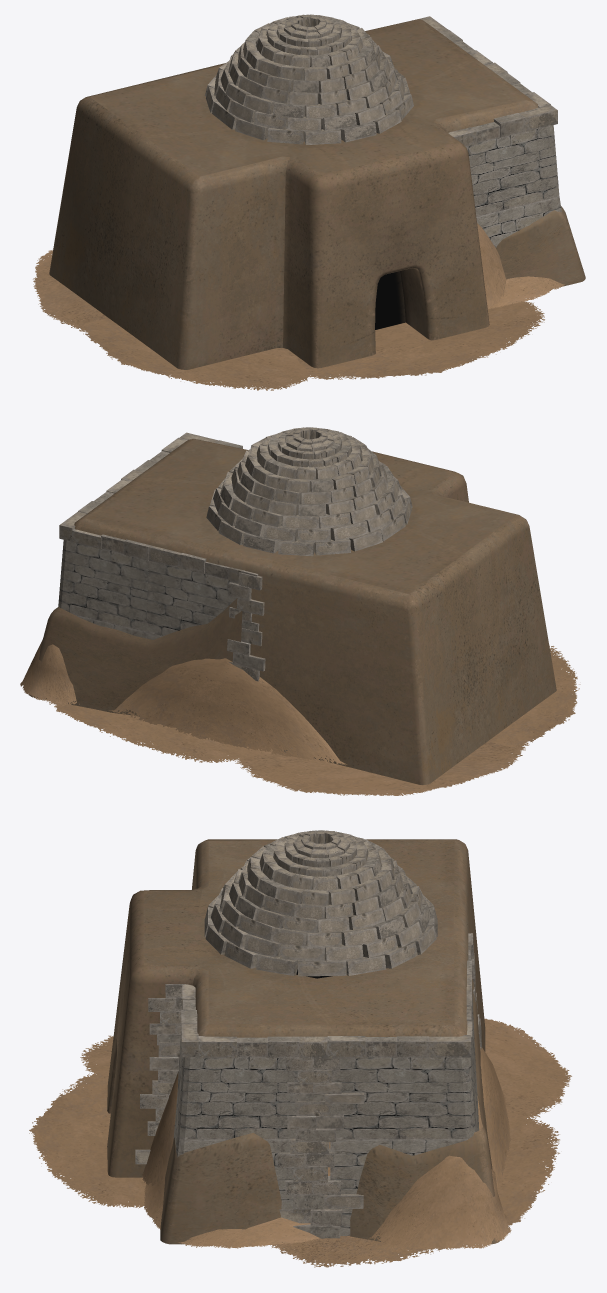
Rendered from Limestone_Burner_Construction_Stage_3.fbx.
3 views of the same model, one above another, from view 1: azimuth 30°, elevation 25°; view 2: azimuth 150°, elevation 25°; view 3: azimuth 270°, elevation 25° (orthographic). The views are drawn at different scales.
Visible parts, largest first — view 1: Limestone_Burner_Construction_S3, Limestone_Burner_ConstructionBricks_S3; view 2: Limestone_Burner_Construction_S3, Limestone_Burner_ConstructionBricks_S3; view 3: Limestone_Burner_Construction_S3, Limestone_Burner_ConstructionBricks_S3.
Part boxes in pixels (box(x1,y1,x2,y2)): Limestone_Burner_Construction_S3: box(33, 16, 585, 390); Limestone_Burner_ConstructionBricks_S3: box(205, 14, 413, 144); Limestone_Burner_Construction_S3: box(20, 432, 580, 795); Limestone_Burner_ConstructionBricks_S3: box(206, 427, 412, 556); Limestone_Burner_Construction_S3: box(29, 839, 571, 1267); Limestone_Burner_ConstructionBricks_S3: box(204, 830, 437, 978).
Size of the model in its own units: 653 by 327 by 558.
